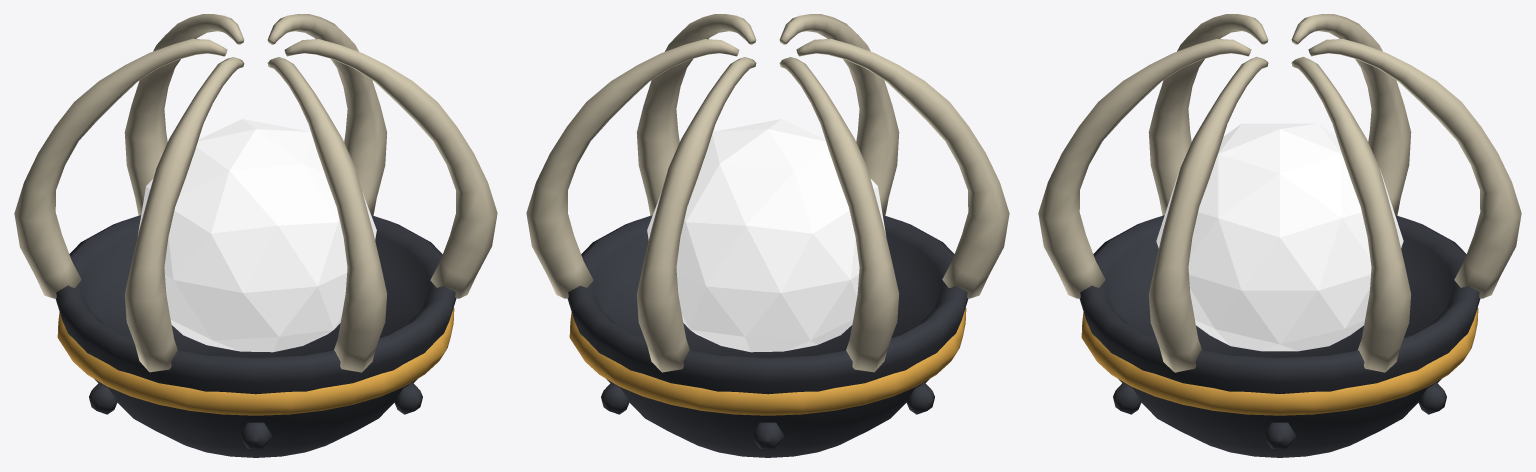
Rendered from viewmodel_orb.glb.
3 views of the same model, side by side, from view 1: azimuth 30°, elevation 25°; view 2: azimuth 150°, elevation 25°; view 3: azimuth 270°, elevation 25° (orthographic).
Parts seen in each view (by area): view 1: orb_body, orb_core_light, orb_sigil_ring; view 2: orb_body, orb_core_light, orb_sigil_ring; view 3: orb_body, orb_core_light, orb_sigil_ring.
Boxes of the visible parts, x1,y1,x2,y2 form: orb_body: [14, 14, 497, 457]; orb_core_light: [138, 119, 376, 352]; orb_sigil_ring: [57, 307, 454, 415]; orb_body: [526, 14, 1009, 457]; orb_core_light: [647, 119, 885, 352]; orb_sigil_ring: [569, 307, 966, 415]; orb_body: [1038, 14, 1521, 457]; orb_core_light: [1156, 123, 1403, 351]; orb_sigil_ring: [1081, 307, 1478, 415].
Size of the model in its own units: 0.139 by 0.144 by 0.1603.
2 materials, 1 textured.
